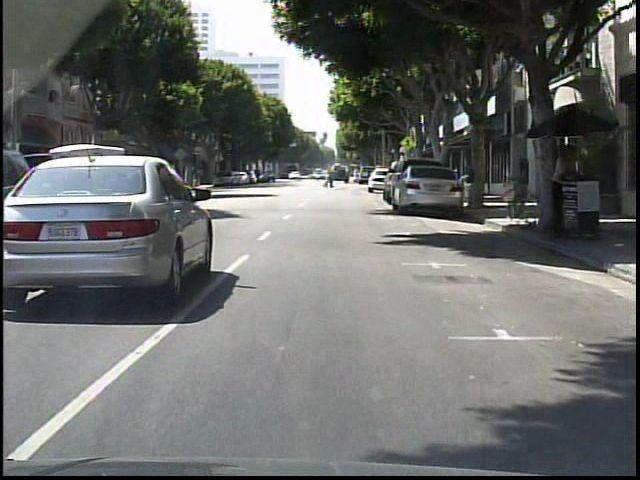person: (547, 143, 583, 233), (322, 167, 337, 190)
